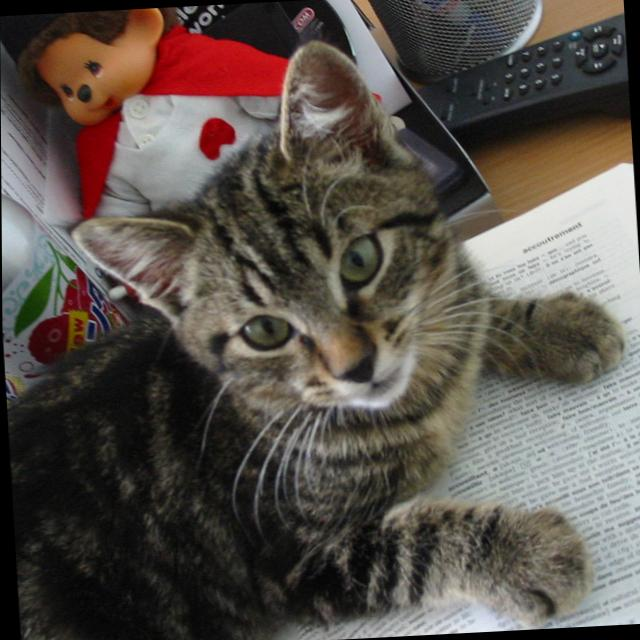animals: (63, 41, 409, 393)
